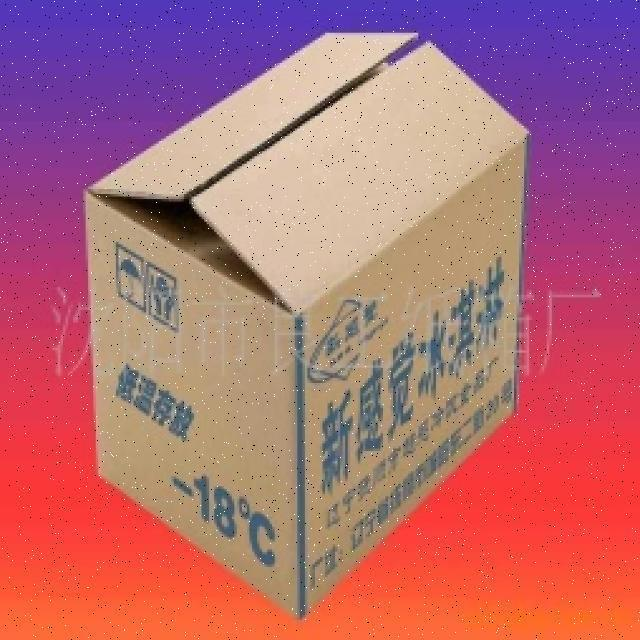box: (72, 34, 544, 618)
